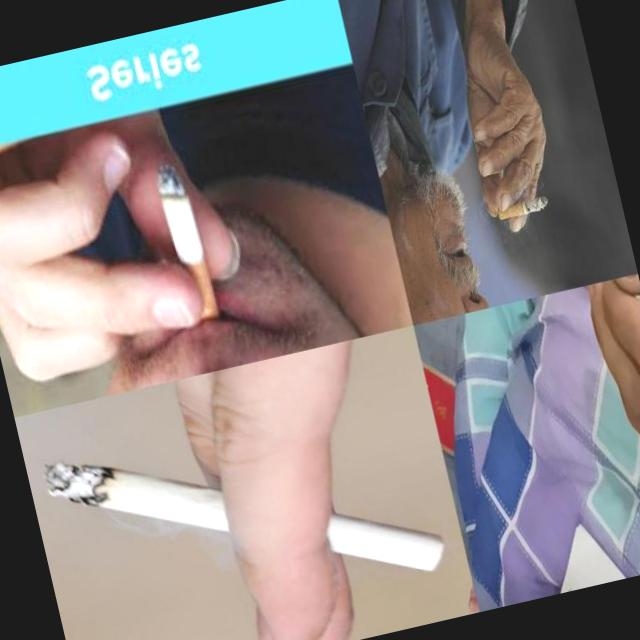smoke: (39, 378, 452, 640), (151, 158, 221, 324), (625, 357, 640, 492), (496, 193, 551, 220)
